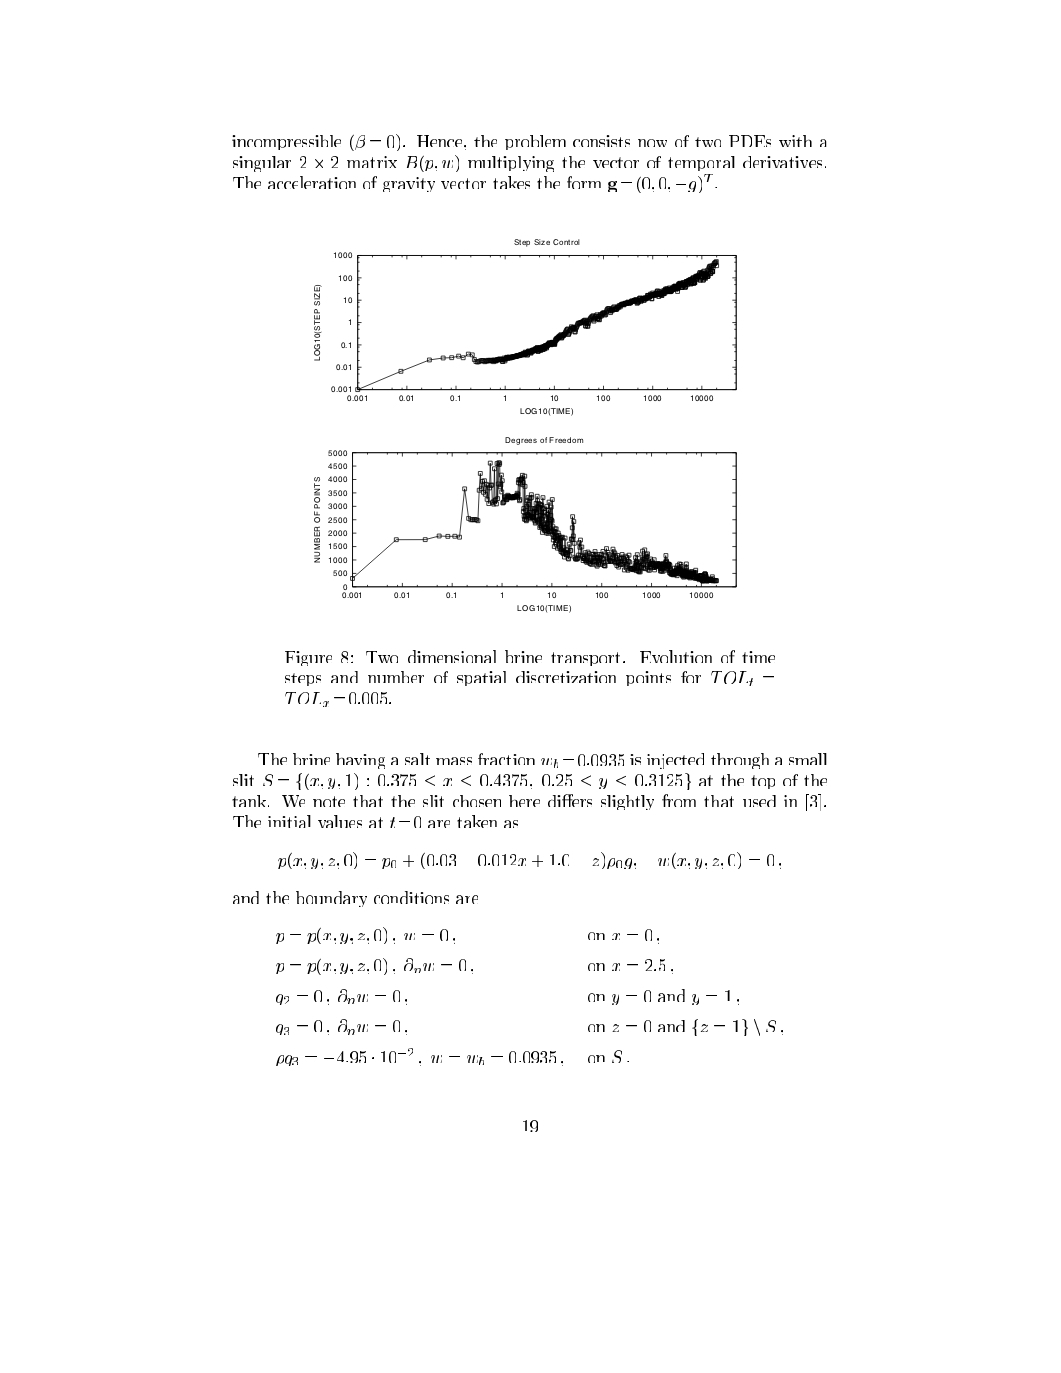figure: (314, 252, 736, 415), (314, 450, 736, 612)
formula: (276, 1017, 782, 1036), (278, 851, 780, 869), (276, 989, 738, 1005), (276, 957, 672, 975), (276, 1046, 627, 1067), (276, 926, 658, 944)
